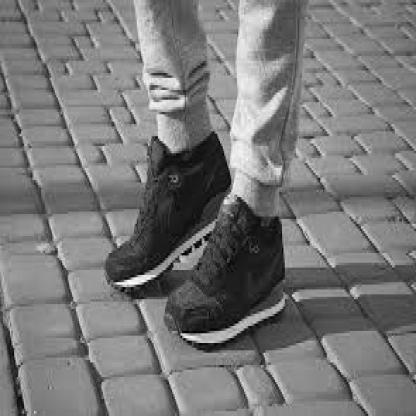ankle: (262, 223, 270, 234), (186, 160, 190, 171)
heel: (256, 244, 300, 323), (209, 159, 234, 204), (277, 287, 280, 299), (229, 185, 232, 191)
left_foot: (169, 207, 287, 346)
pinky: (193, 316, 200, 325), (113, 254, 117, 258)
right_foot: (104, 132, 233, 285)
toe: (117, 271, 124, 279), (174, 293, 180, 302)
